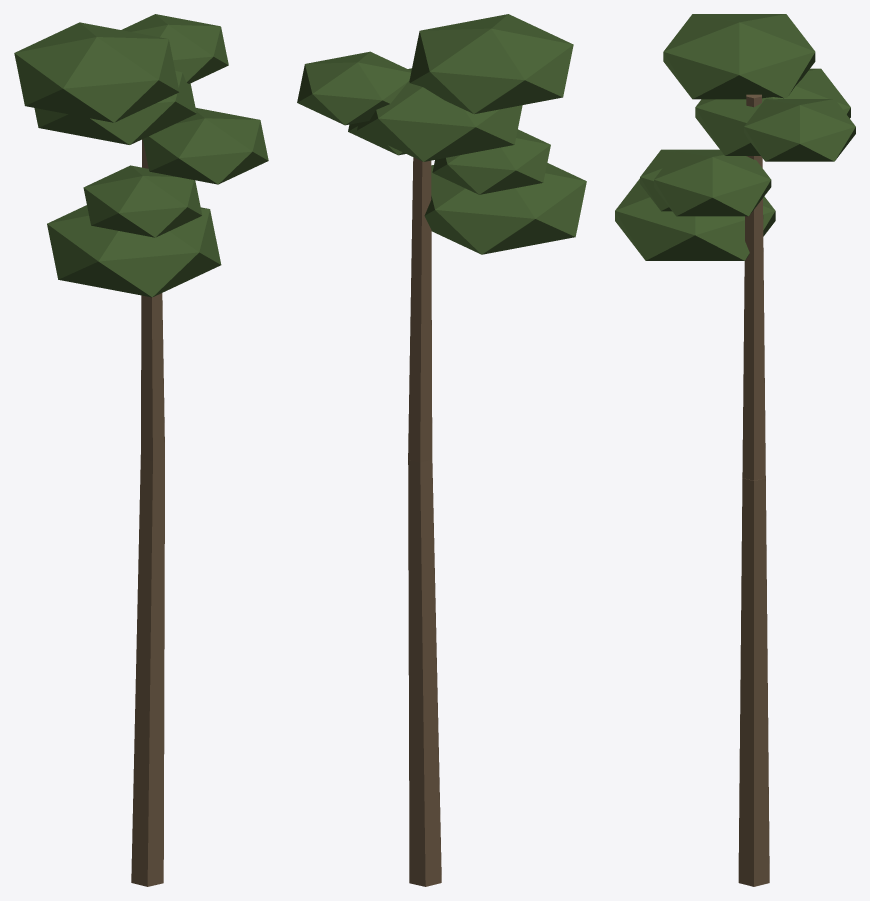
File: SlashPine.fbx
The picture shows the model from 3 angles, left to right: view 1: azimuth 30°, elevation 25°; view 2: azimuth 150°, elevation 25°; view 3: azimuth 270°, elevation 25°; orthographic projection. The views are drawn at different scales.
Visible parts, largest first — view 1: SlashPine; view 2: SlashPine; view 3: SlashPine.
Boxes of the visible parts, left/top/right/bottom form: SlashPine: left=14, top=14, right=268, bottom=886; SlashPine: left=297, top=14, right=586, bottom=886; SlashPine: left=615, top=14, right=855, bottom=886.
Bounding box in the file's own units: 1691 × 6123 × 1612.
